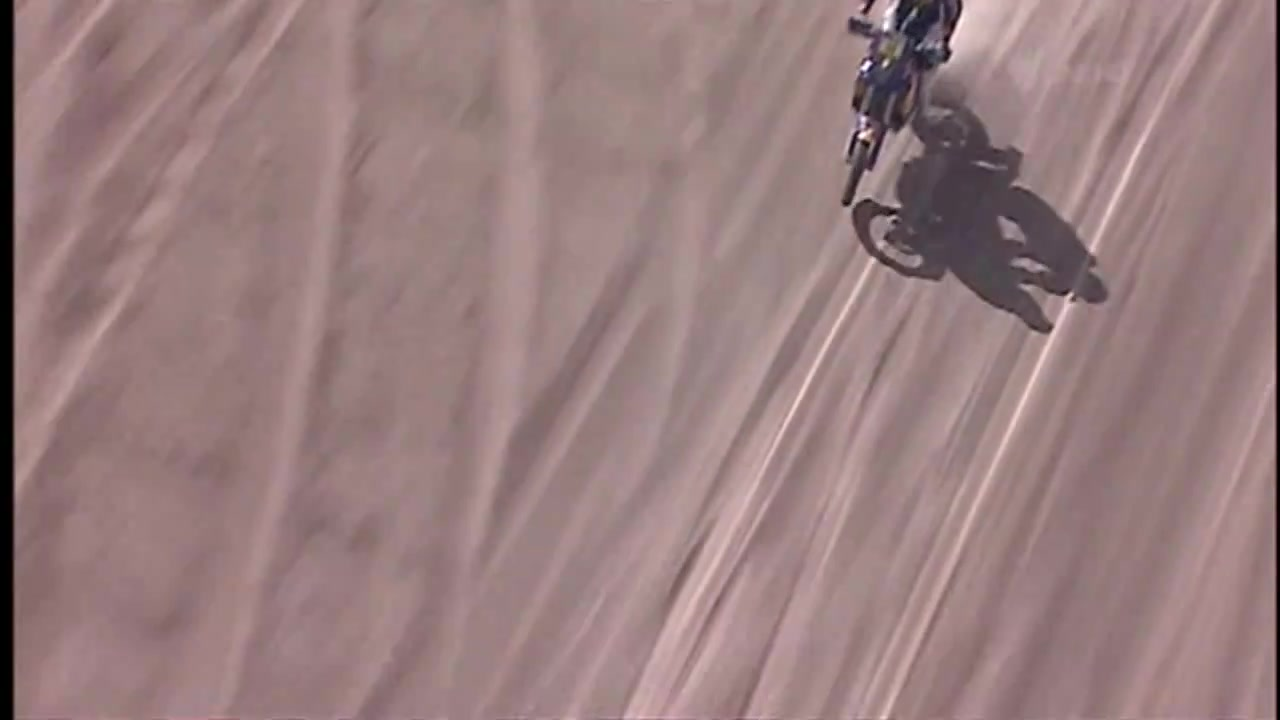motorbike: (843, 1, 968, 211)
